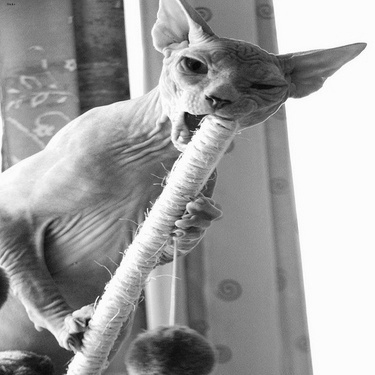cat: (2, 1, 370, 351)
